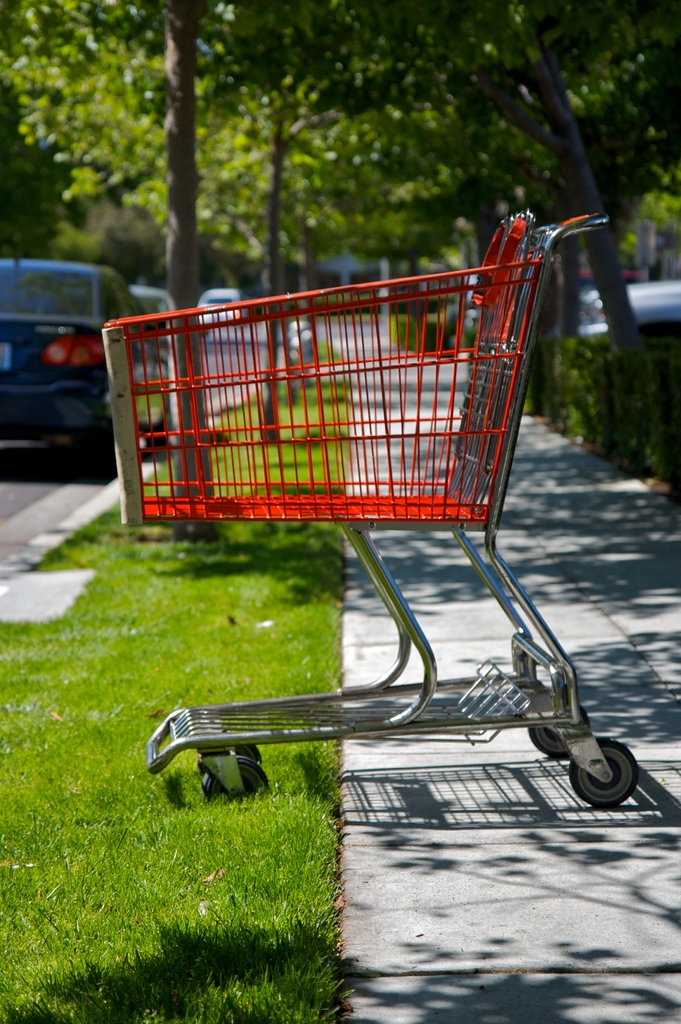Tree: (0, 0, 681, 543)
